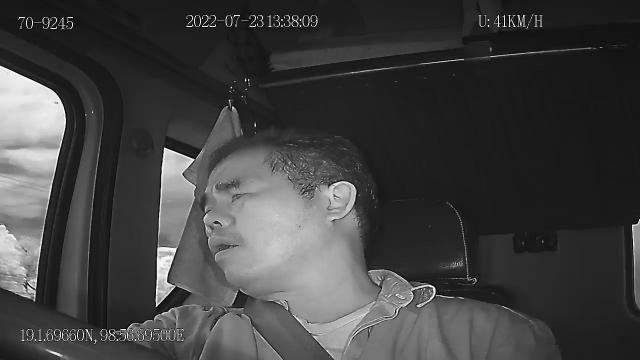Seatbelt: (242, 294, 336, 360)
